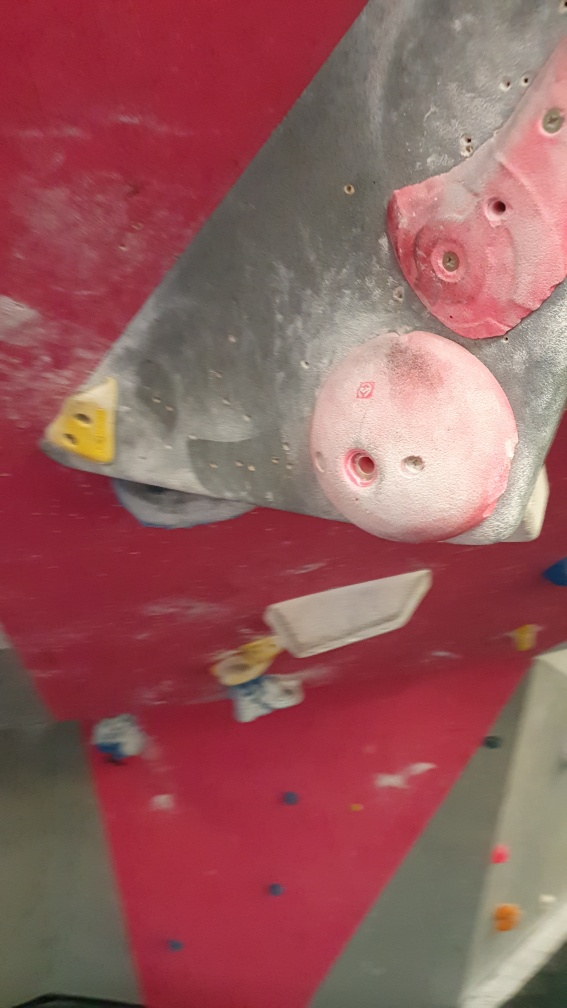Crimp: (45, 378, 115, 466)
Sloper: (309, 330, 520, 543)
